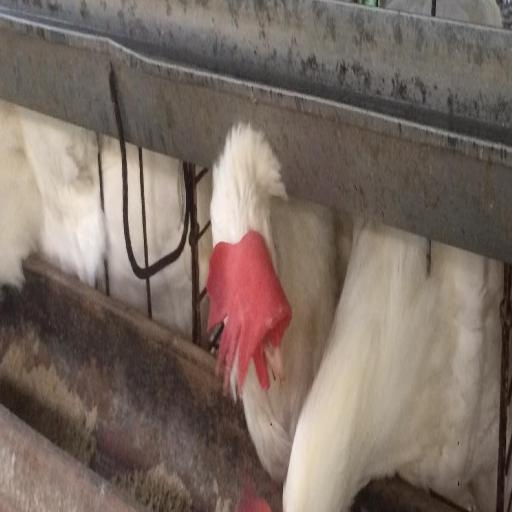healthy: (216, 177, 288, 397)
